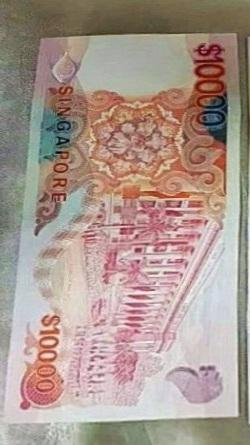10000SingaporeDollar: (24, 38, 236, 416)
